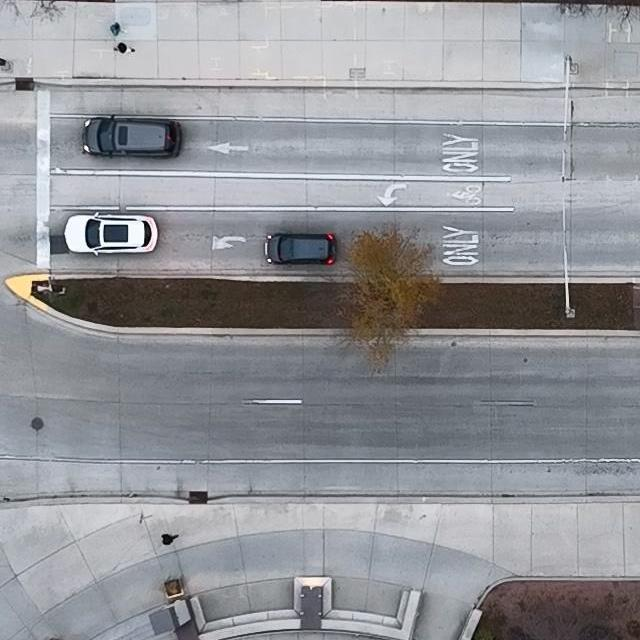car: (63, 210, 159, 257), (83, 115, 181, 159), (263, 231, 337, 265)
